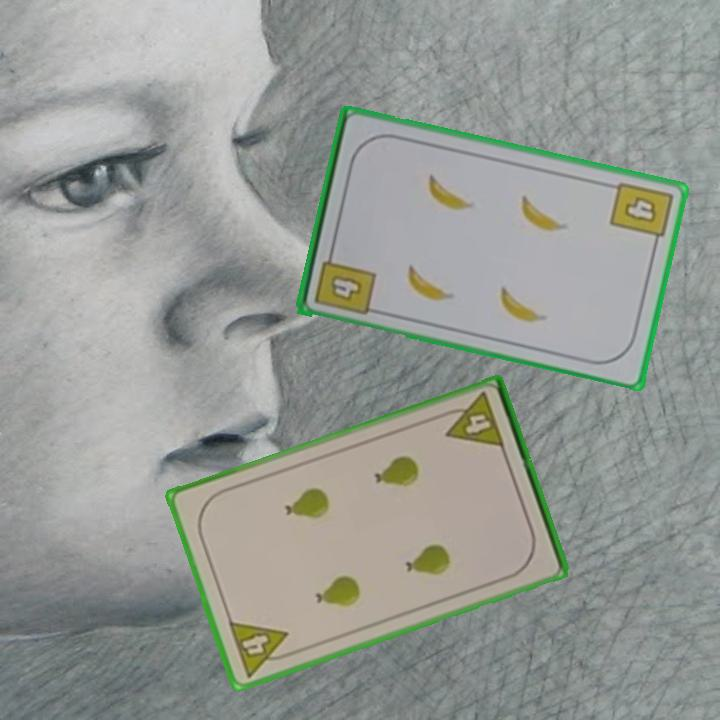4b: (606, 177, 676, 251), (311, 245, 379, 318)
4p: (224, 617, 297, 680), (437, 389, 508, 452)
